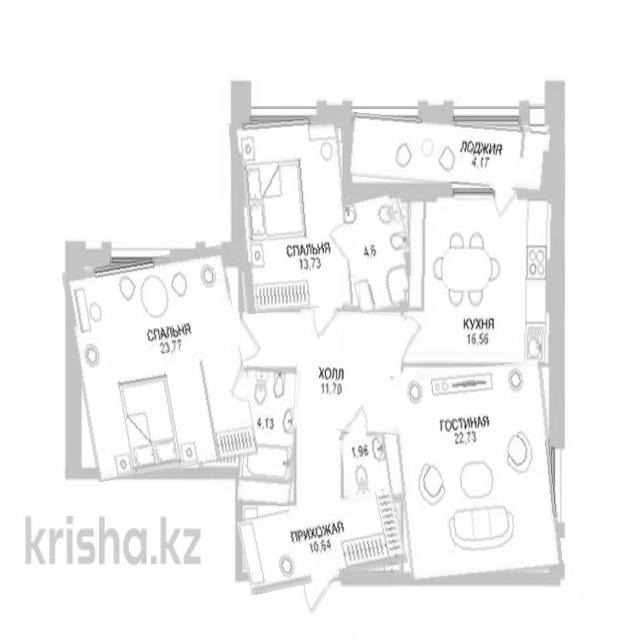balcony: (347, 117, 549, 189)
bathroom: (338, 186, 417, 311), (238, 366, 299, 505), (342, 429, 406, 502)
hallway: (239, 495, 405, 588), (294, 310, 404, 434)
kitchen: (407, 190, 556, 363)
living_room: (70, 251, 249, 476), (395, 364, 558, 582), (232, 116, 349, 312)
